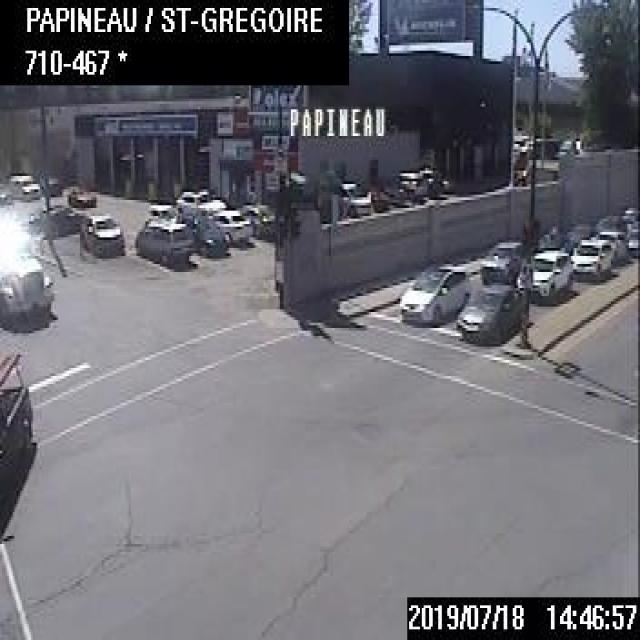vehicle: (0, 205, 53, 331), (396, 261, 468, 325), (0, 333, 31, 480), (458, 282, 531, 342), (131, 214, 196, 268), (516, 247, 574, 302), (569, 235, 616, 282), (477, 238, 525, 284), (78, 212, 126, 256), (210, 207, 253, 246), (176, 189, 225, 220), (238, 201, 274, 239), (592, 229, 627, 265), (340, 179, 372, 217), (395, 168, 427, 201), (9, 172, 40, 200), (536, 230, 570, 251), (144, 202, 176, 224), (66, 183, 95, 207), (566, 222, 593, 246), (592, 214, 624, 234)
